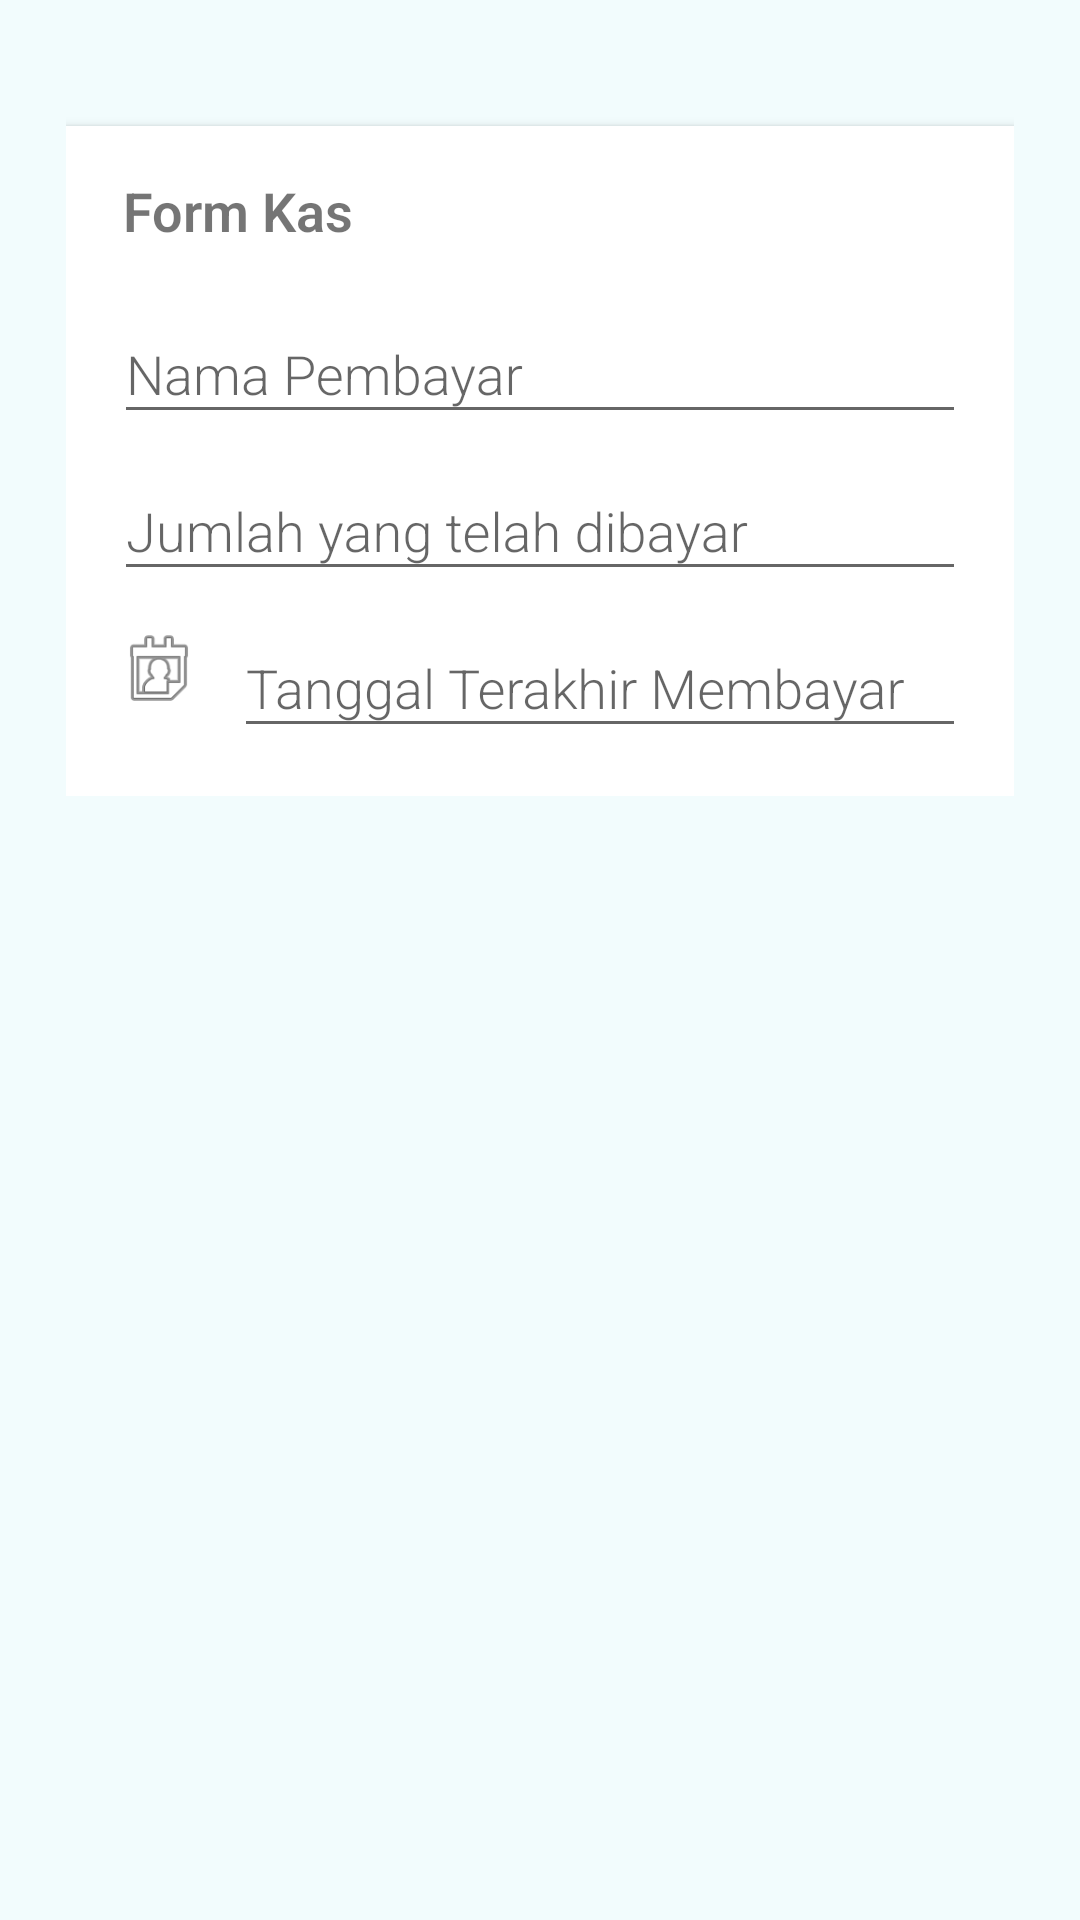

Screen size 1080px x 1920px. Icon name, then its box in pixels as [left=x1, top=y1, right=x2, bottom=y2]:
calendar: [left=130, top=635, right=188, bottom=701]
